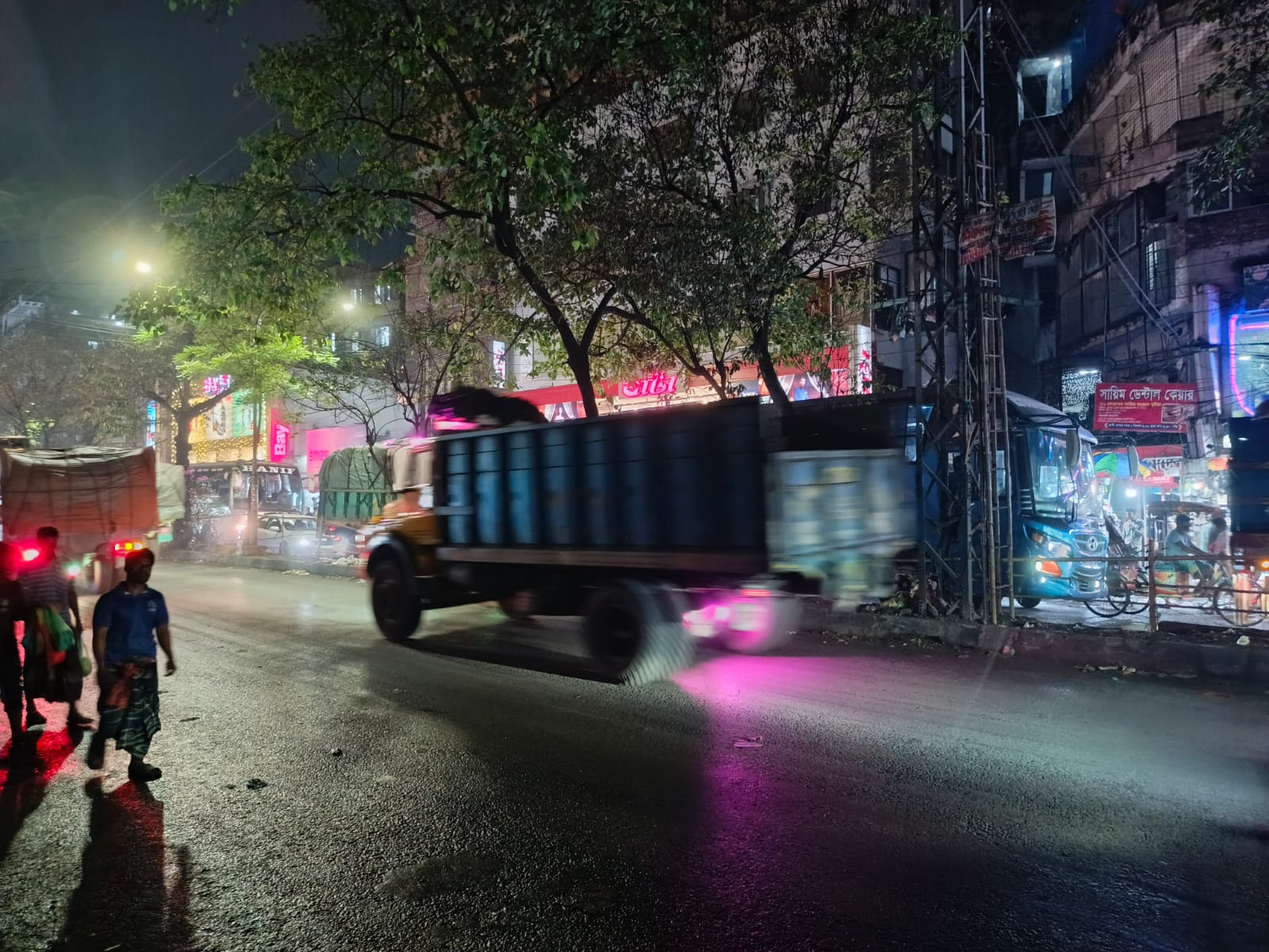Truck: (360, 371, 946, 689)
